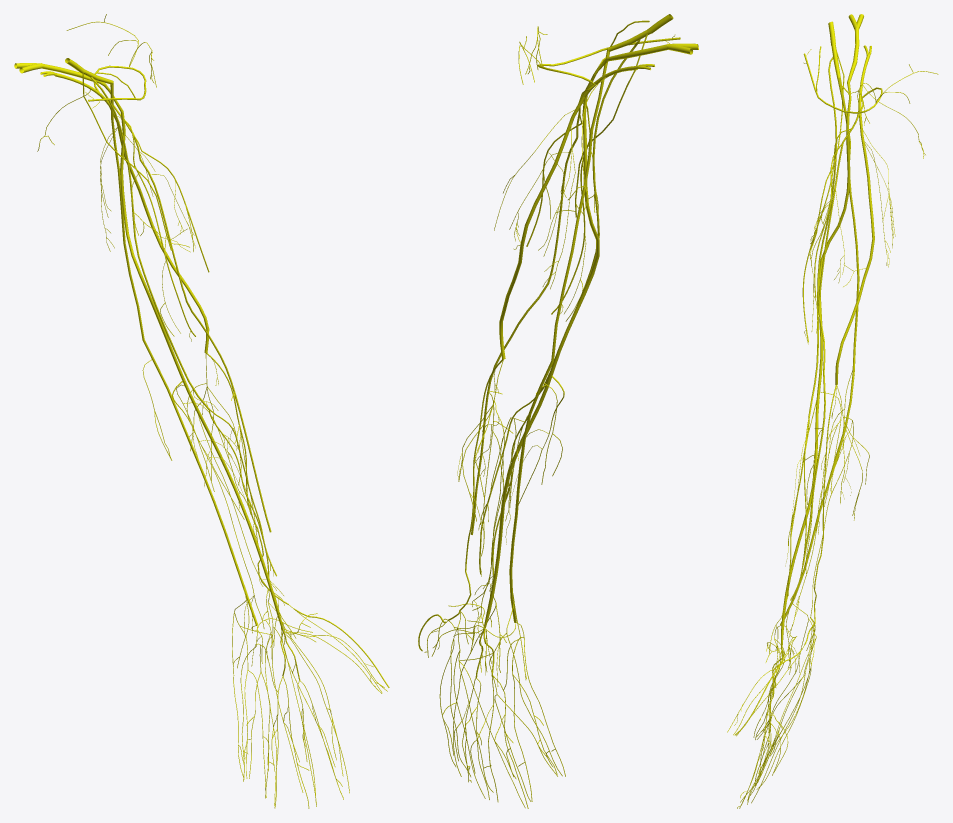
The model's file is Upper limb Nerves L.fbx.
3 views of the same model, side by side, from view 1: azimuth 30°, elevation 25°; view 2: azimuth 150°, elevation 25°; view 3: azimuth 270°, elevation 25° (orthographic). The views are drawn at different scales.
Parts seen in each view (by area): view 1: Median_C06_T01_L, Musculocutaneous_C05_C07_L, Ulnar_C08_T01_L, Dorsal_digital_radial_L, Medial_antebrachial_cutaneous_C08_T06_L, Palmar_digital_median_L, Radial_C05_T01_L, Axillary_C05_C06_L; view 2: Musculocutaneous_C05_C07_L, Median_C06_T01_L, Ulnar_C08_T01_L, Radial_C05_T01_L, Dorsal_digital_radial_L, Medial_antebrachial_cutaneous_C08_T06_L, Palmar_digital_median_L, Axillary_C05_C06_L, Radial_superficial_branch_L, Anterior_interosseous_L, Posterior_interosseous_L, Deep_branch_of_radial_L (+1 smaller); view 3: Musculocutaneous_C05_C07_L, Median_C06_T01_L, Ulnar_C08_T01_L, Radial_C05_T01_L, Medial_antebrachial_cutaneous_C08_T06_L, Dorsal_digital_radial_L, Palmar_digital_median_L, Axillary_C05_C06_L, Anterior_interosseous_L, Radial_superficial_branch_L, Deep_branch_of_radial_L, Posterior_interosseous_L.
Boxes of the visible parts, x1,y1,x2,y2 form: Median_C06_T01_L: [113, 95, 283, 632]; Musculocutaneous_C05_C07_L: [113, 105, 271, 541]; Ulnar_C08_T01_L: [110, 81, 258, 625]; Dorsal_digital_radial_L: [265, 605, 389, 806]; Medial_antebrachial_cutaneous_C08_T06_L: [90, 77, 283, 607]; Palmar_digital_median_L: [271, 631, 387, 808]; Radial_C05_T01_L: [100, 106, 209, 353]; Axillary_C05_C06_L: [66, 14, 156, 108]; Musculocutaneous_C05_C07_L: [471, 84, 596, 556]; Median_C06_T01_L: [483, 74, 599, 630]; Ulnar_C08_T01_L: [509, 47, 609, 622]; Radial_C05_T01_L: [494, 96, 585, 359]; Dorsal_digital_radial_L: [418, 614, 525, 808]; Medial_antebrachial_cutaneous_C08_T06_L: [479, 39, 640, 595]; Palmar_digital_median_L: [431, 618, 528, 808]; Axillary_C05_C06_L: [518, 20, 680, 85]; Radial_superficial_branch_L: [448, 359, 503, 650]; Anterior_interosseous_L: [472, 385, 545, 618]; Posterior_interosseous_L: [470, 400, 504, 663]; Deep_branch_of_radial_L: [457, 359, 503, 530]; Musculocutaneous_C05_C07_L: [802, 99, 863, 574]; Median_C06_T01_L: [781, 98, 851, 648]; Ulnar_C08_T01_L: [780, 77, 859, 625]; Radial_C05_T01_L: [835, 114, 895, 384]; Medial_antebrachial_cutaneous_C08_T06_L: [781, 57, 837, 625]; Dorsal_digital_radial_L: [734, 644, 811, 803]; Palmar_digital_median_L: [727, 648, 786, 808]; Axillary_C05_C06_L: [803, 46, 938, 125]; Anterior_interosseous_L: [789, 391, 841, 637]; Radial_superficial_branch_L: [804, 385, 836, 657]; Deep_branch_of_radial_L: [831, 385, 869, 520]; Posterior_interosseous_L: [809, 417, 853, 653].
Bounding box in the file's own units: 30.69 × 73.49 × 20.34.
